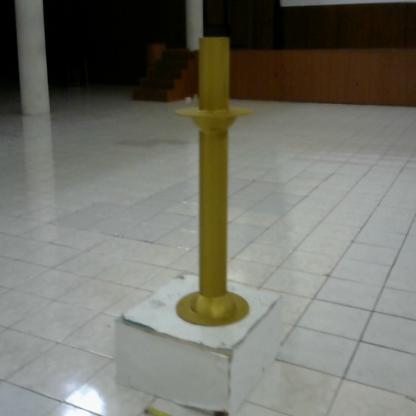pole: (171, 27, 257, 331)
